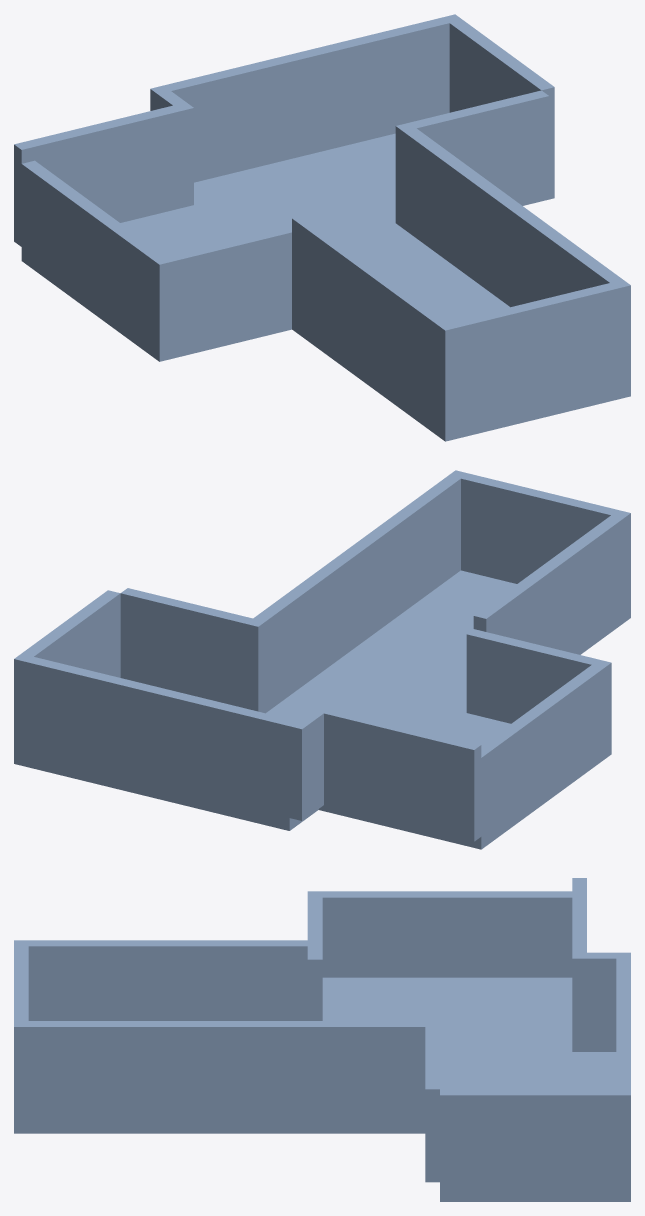
Rendered from Floor0_walls.fbx.
3 renders of one model, top to bottom at view 1: azimuth 30°, elevation 25°; view 2: azimuth 150°, elevation 25°; view 3: azimuth 270°, elevation 25°, orthographic. The views are drawn at different scales.
Parts seen in each view (by area): view 1: walls46, walls44, walls45, walls49, walls43, walls52, Hallway40, walls48, Hallway41, walls47, walls42, Hallway42 (+2 smaller); view 2: walls46, walls44, Hallway40, walls52, walls45, walls47, walls43, walls49, walls48, walls42, Hallway42, walls63 (+3 smaller); view 3: walls44, walls45, walls43, walls42, Hallway42, Hallway41, Hallway40, walls63, Hallway39, walls52, walls47, walls48 (+3 smaller).
Boxes of the visible parts, x1=… form: walls46: x1=164, y1=17, x2=449, y2=182; walls44: x1=395, y1=123, x2=630, y2=385; walls45: x1=292, y1=215, x2=458, y2=427; walls49: x1=451, y1=283, x2=617, y2=424; walls43: x1=21, y1=160, x2=172, y2=347; walls52: x1=14, y1=102, x2=193, y2=246; Hallway40: x1=292, y1=223, x2=630, y2=441; walls48: x1=152, y1=225, x2=291, y2=347; Hallway41: x1=154, y1=169, x2=395, y2=247; walls47: x1=409, y1=90, x2=549, y2=201; walls42: x1=442, y1=14, x2=554, y2=185; Hallway42: x1=21, y1=215, x2=291, y2=361; walls46: x1=26, y1=657, x2=296, y2=817; walls44: x1=246, y1=470, x2=467, y2=713; Hallway40: x1=266, y1=570, x2=630, y2=736; walls52: x1=311, y1=705, x2=481, y2=841; walls45: x1=473, y1=510, x2=630, y2=651; walls47: x1=120, y1=588, x2=252, y2=708; walls43: x1=481, y1=661, x2=611, y2=836; walls49: x1=461, y1=473, x2=617, y2=583; walls48: x1=466, y1=629, x2=611, y2=746; walls42: x1=14, y1=590, x2=120, y2=753; Hallway42: x1=356, y1=716, x2=611, y2=849; walls63: x1=289, y1=710, x2=323, y2=820; walls44: x1=14, y1=1021, x2=439, y2=1120; walls45: x1=14, y1=940, x2=307, y2=1020; walls43: x1=307, y1=891, x2=572, y2=977; walls42: x1=440, y1=1089, x2=630, y2=1188; Hallway42: x1=322, y1=977, x2=572, y2=1033; Hallway41: x1=440, y1=1033, x2=572, y2=1089; Hallway40: x1=14, y1=1120, x2=425, y2=1133; walls63: x1=587, y1=952, x2=630, y2=1051; Hallway39: x1=440, y1=1188, x2=630, y2=1201; walls52: x1=572, y1=878, x2=586, y2=1051; walls47: x1=425, y1=1027, x2=439, y2=1182; walls48: x1=307, y1=891, x2=322, y2=1020.
Bounding box in the file's own units: 1750 × 400 × 2100.
